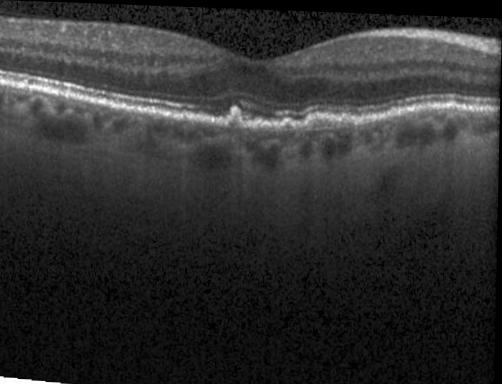retinal_drusen: (306, 114, 336, 127), (228, 109, 243, 128), (339, 114, 355, 125), (258, 122, 275, 129), (282, 120, 295, 128)
